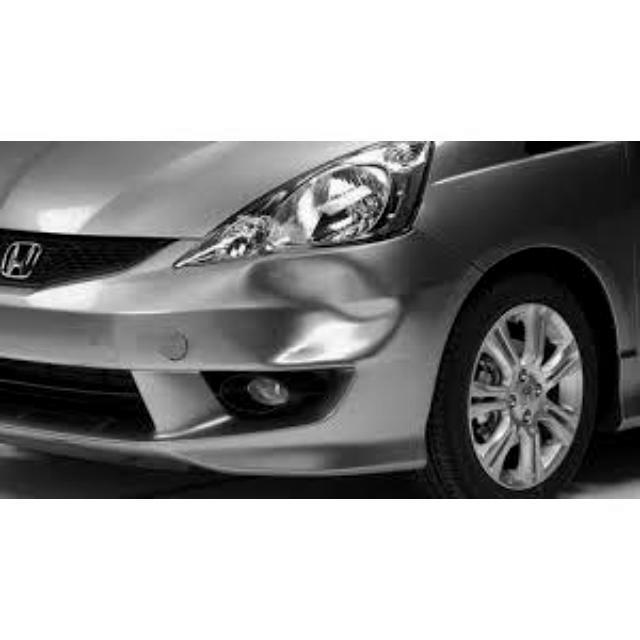front-bumper-dent: (205, 258, 429, 420)
